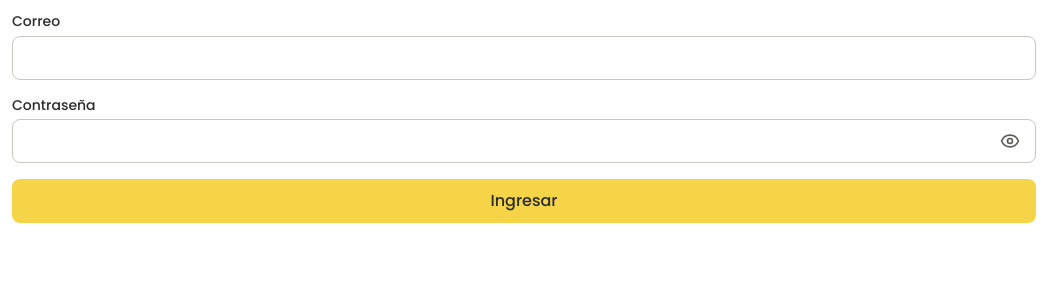
Test: FormularioIngreso › un 401 muestra el siguiente paso concreto y conserva lo escrito
Type "ana@taju.co" into the field labelled "Correo" at {"x": 524, "y": 58}, box x1=12 y1=36 x2=1036 y2=80
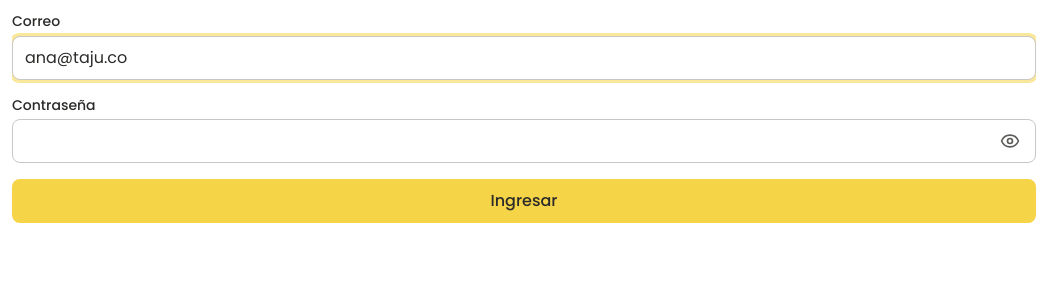
Type "clave-segura-123" into the password field labelled "Contraseña" at {"x": 524, "y": 141}, box x1=12 y1=119 x2=1036 y2=163
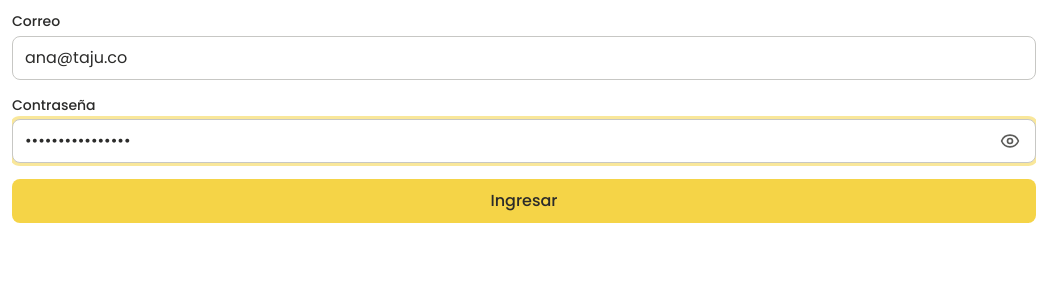
Click the button "Ingresar" at {"x": 524, "y": 201}, box x1=12 y1=179 x2=1036 y2=223
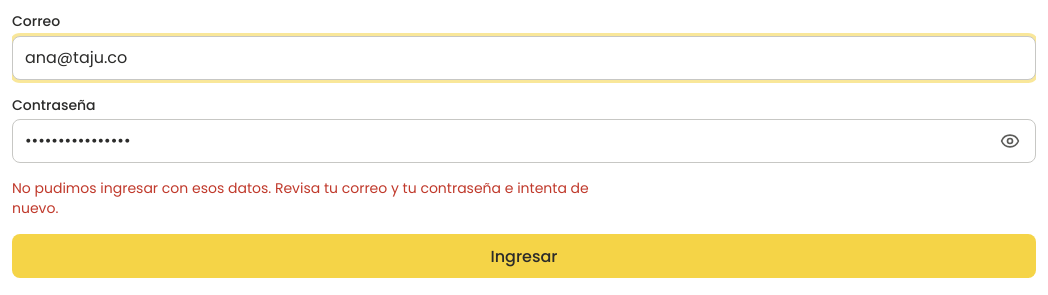
Result: the message shows "Revisa tu correo y tu contraseña" at x1=12 y1=178 x2=589 y2=218
